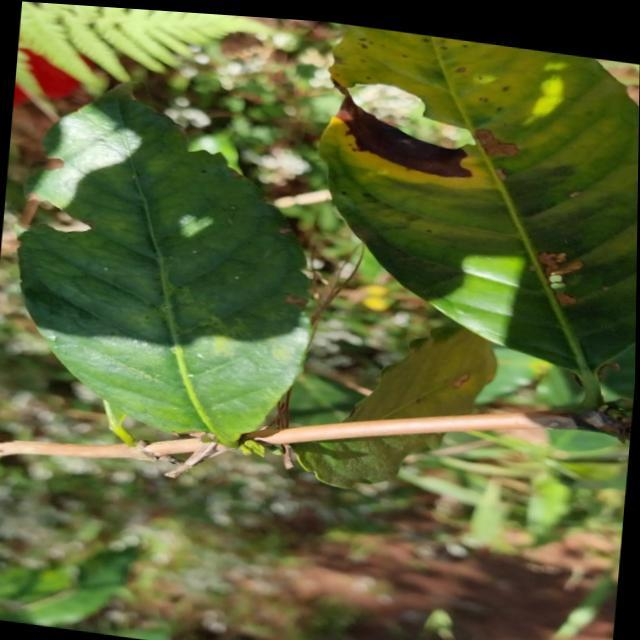leaves: (0, 69, 374, 485), (290, 25, 640, 408)
